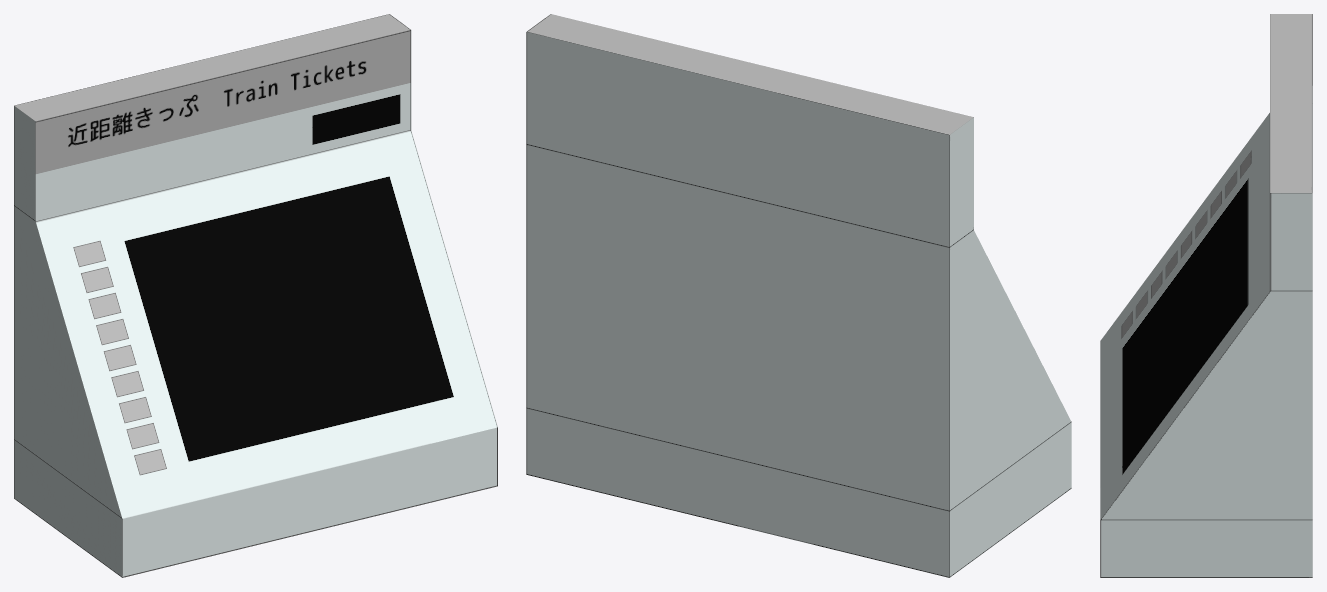
The model's file is vendor.obj.
3 renders of one model, left to right at view 1: azimuth 30°, elevation 25°; view 2: azimuth 150°, elevation 25°; view 3: azimuth 270°, elevation 25°, orthographic. The views are drawn at different scales.
Parts seen in each view (by area): view 1: Cube; view 2: Cube; view 3: Cube.
Part boxes in pixels (x1,y1,x2,y2): Cube: [14, 14, 497, 577]; Cube: [526, 14, 1071, 577]; Cube: [1100, 14, 1312, 577].
Size of the model in its own units: 1 by 1 by 0.5.
